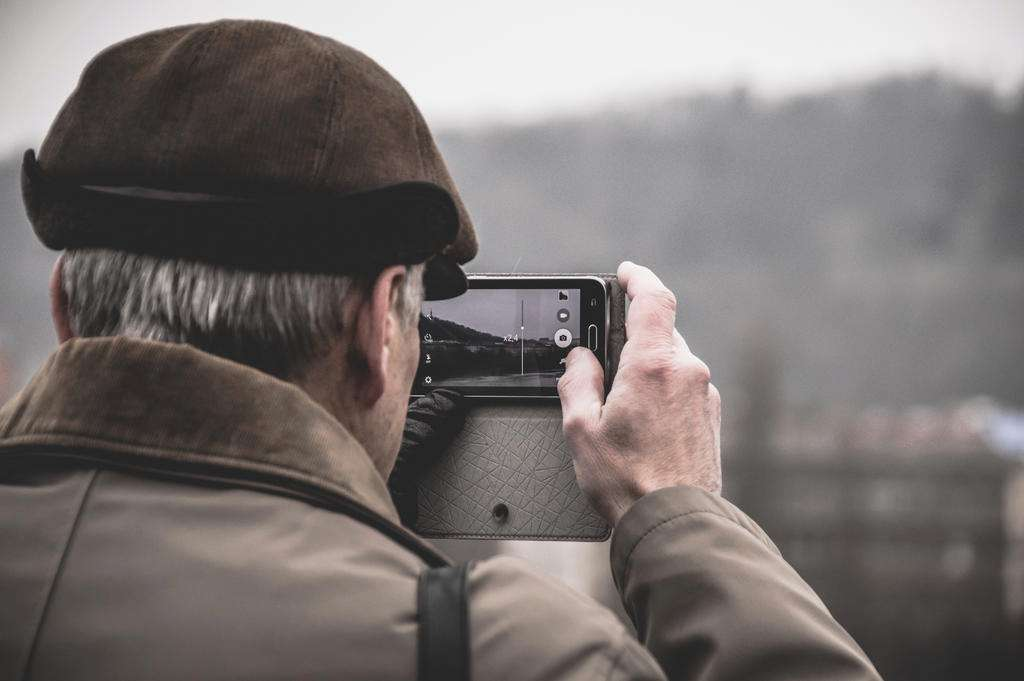taking photos: (413, 261, 731, 512)
